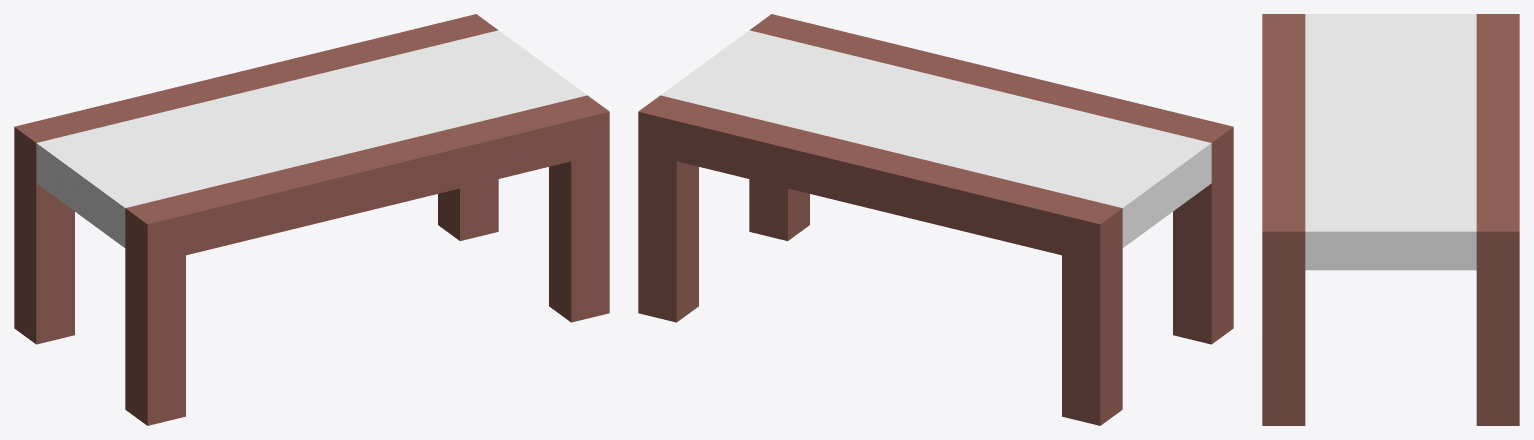
Rendered from table.gltf.
3 renders of one model, left to right at view 1: azimuth 30°, elevation 25°; view 2: azimuth 150°, elevation 25°; view 3: azimuth 270°, elevation 25°, orthographic. The views are drawn at different scales.
Visible parts, largest first — view 1: Layer.1; view 2: Layer.1; view 3: Layer.1.
Part boxes in pixels (box(x1,y1,x2,y2)): Layer.1: box(14, 14, 609, 425); Layer.1: box(638, 14, 1233, 425); Layer.1: box(1262, 14, 1519, 425).
Size of the model in its own units: 12 by 5 by 6.
1 material, 1 textured.
